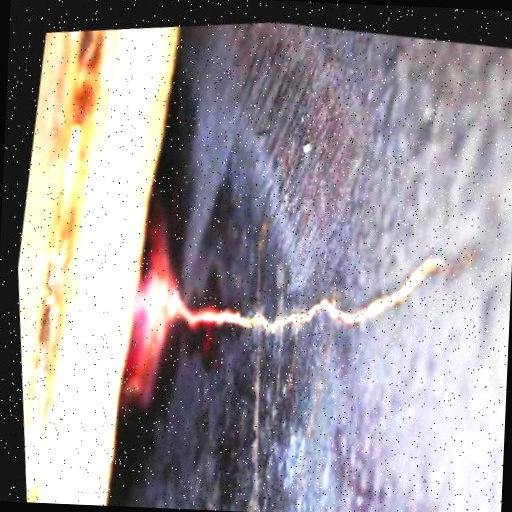crack: (277, 113, 512, 490)
